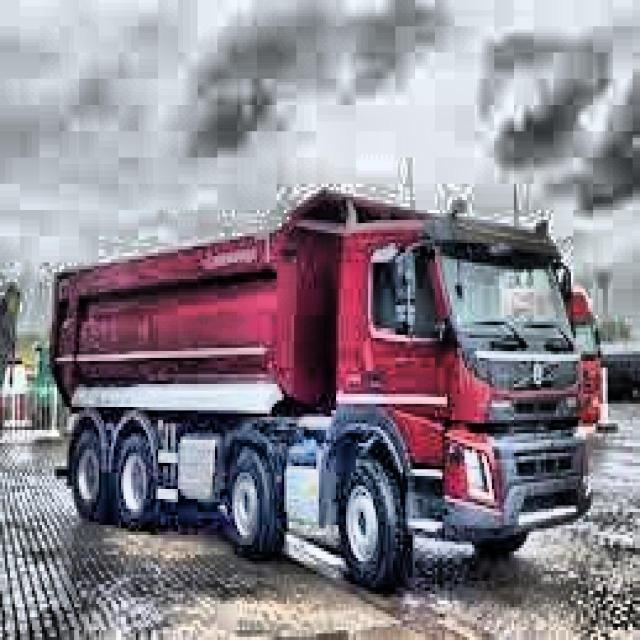dump_truck: (49, 188, 593, 597)
